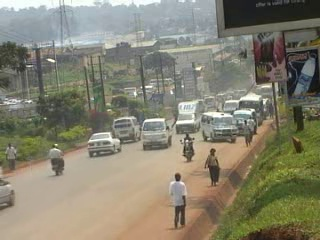Car: (85, 128, 125, 159), (0, 178, 17, 211)
Motorcycle: (179, 137, 197, 162), (49, 157, 65, 178)
